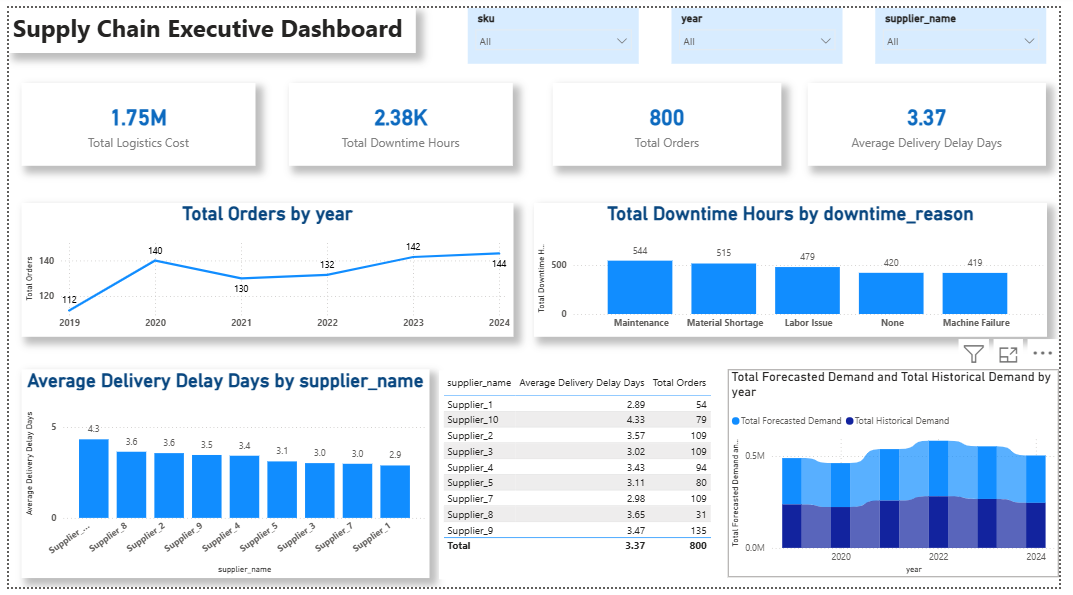

The page's visual inventory and layout, read from the dashboard file:
{"tool":"powerbi","page":{"name":"Page 1","canvas":[1400,773],"ordinal":0},"visuals":[{"type":"textbox","box":[0,0,542.5,60],"z":0},{"type":"slicer","fields":{"Values":["dim_calendar.year"]},"box":[882.5,0,228,74],"z":1000},{"type":"slicer","fields":{"Values":["dim_suppliers.supplier_name"]},"box":[1155,0,228,74],"z":2000},{"type":"card","fields":{"Values":["fact_sales_forecast.Total Logistics Cost"]},"box":[16,100,312,110],"z":3000},{"type":"card","fields":{"Values":["fact_sales_forecast.Total Downtime Hours"]},"box":[372.5,100,298,110],"z":4000},{"type":"card","fields":{"Values":["fact_sales_forecast.Total Orders"]},"box":[725,100,305,110],"z":5000},{"type":"card","fields":{"Values":["fact_sales_forecast.Average Delivery Delay Days"]},"box":[1065,100,317.5,110],"z":6000},{"type":"lineChart","fields":{"Y":["fact_sales_forecast.Total Orders"],"Category":["dim_calendar.year"]},"box":[16,260,656,178],"z":7000},{"type":"columnChart","fields":{"Y":["fact_sales_forecast.Total Downtime Hours"],"Category":["fact_production.downtime_reason"]},"box":[700,260,684,178],"z":8000},{"type":"slicer","fields":{"Values":["dim_product.sku"]},"box":[612,0,228,74],"z":9000},{"type":"columnChart","fields":{"Category":["dim_suppliers.supplier_name"],"Y":["fact_sales_forecast.Average Delivery Delay Days"]},"box":[16,482,544,278],"z":10000},{"type":"tableEx","fields":{"Values":["dim_suppliers.supplier_name","fact_sales_forecast.Average Delivery Delay Days","fact_sales_forecast.Total Orders"]},"box":[574,484,368,278],"z":10001},{"type":"ribbonChart","fields":{"Category":["dim_calendar.year"],"Y":["fact_sales_forecast.Total Forecasted Demand","fact_sales_forecast.Total Historical Demand"]},"box":[958,482,442,278],"z":10002}]}

Visuals, with their boxes in screenshot pixels (x1, y1, x2, y2), scaled from the page's 1400x773 canvas onto the 1073x595 screenshot:
textbox: {"x1": 0, "y1": 0, "x2": 416, "y2": 46}
slicer - dim_calendar.year: {"x1": 676, "y1": 0, "x2": 851, "y2": 57}
slicer - dim_suppliers.supplier_name: {"x1": 885, "y1": 0, "x2": 1060, "y2": 57}
card - fact_sales_forecast.Total Logistics Cost: {"x1": 12, "y1": 77, "x2": 251, "y2": 162}
card - fact_sales_forecast.Total Downtime Hours: {"x1": 285, "y1": 77, "x2": 514, "y2": 162}
card - fact_sales_forecast.Total Orders: {"x1": 556, "y1": 77, "x2": 789, "y2": 162}
card - fact_sales_forecast.Average Delivery Delay Days: {"x1": 816, "y1": 77, "x2": 1060, "y2": 162}
lineChart - fact_sales_forecast.Total Orders x dim_calendar.year: {"x1": 12, "y1": 200, "x2": 515, "y2": 337}
columnChart - fact_sales_forecast.Total Downtime Hours x fact_production.downtime_reason: {"x1": 536, "y1": 200, "x2": 1061, "y2": 337}
slicer - dim_product.sku: {"x1": 469, "y1": 0, "x2": 644, "y2": 57}
columnChart - dim_suppliers.supplier_name x fact_sales_forecast.Average Delivery Delay Days: {"x1": 12, "y1": 371, "x2": 429, "y2": 585}
tableEx - dim_suppliers.supplier_name x fact_sales_forecast.Average Delivery Delay Days: {"x1": 440, "y1": 373, "x2": 722, "y2": 587}
ribbonChart - dim_calendar.year x fact_sales_forecast.Total Forecasted Demand: {"x1": 734, "y1": 371, "x2": 1072, "y2": 585}
